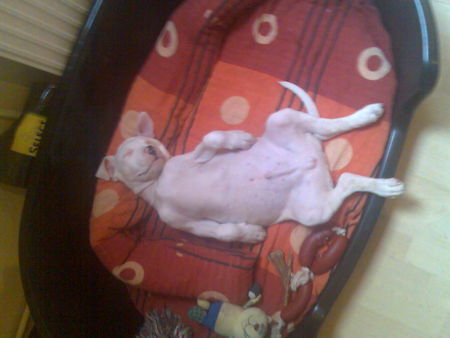dogo_argentino: (94, 81, 405, 244)
